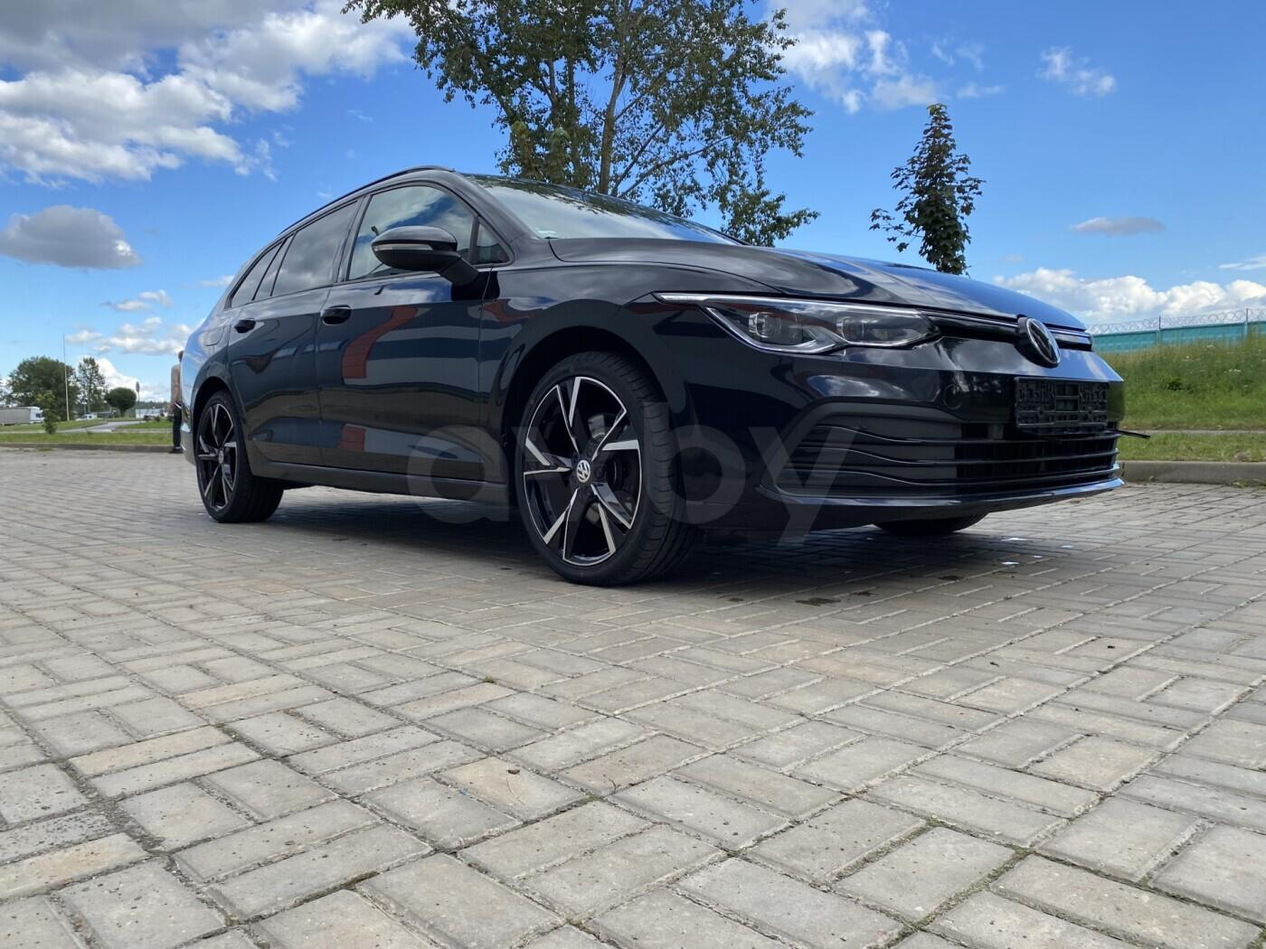Golf_2019: (172, 164, 1133, 587)
